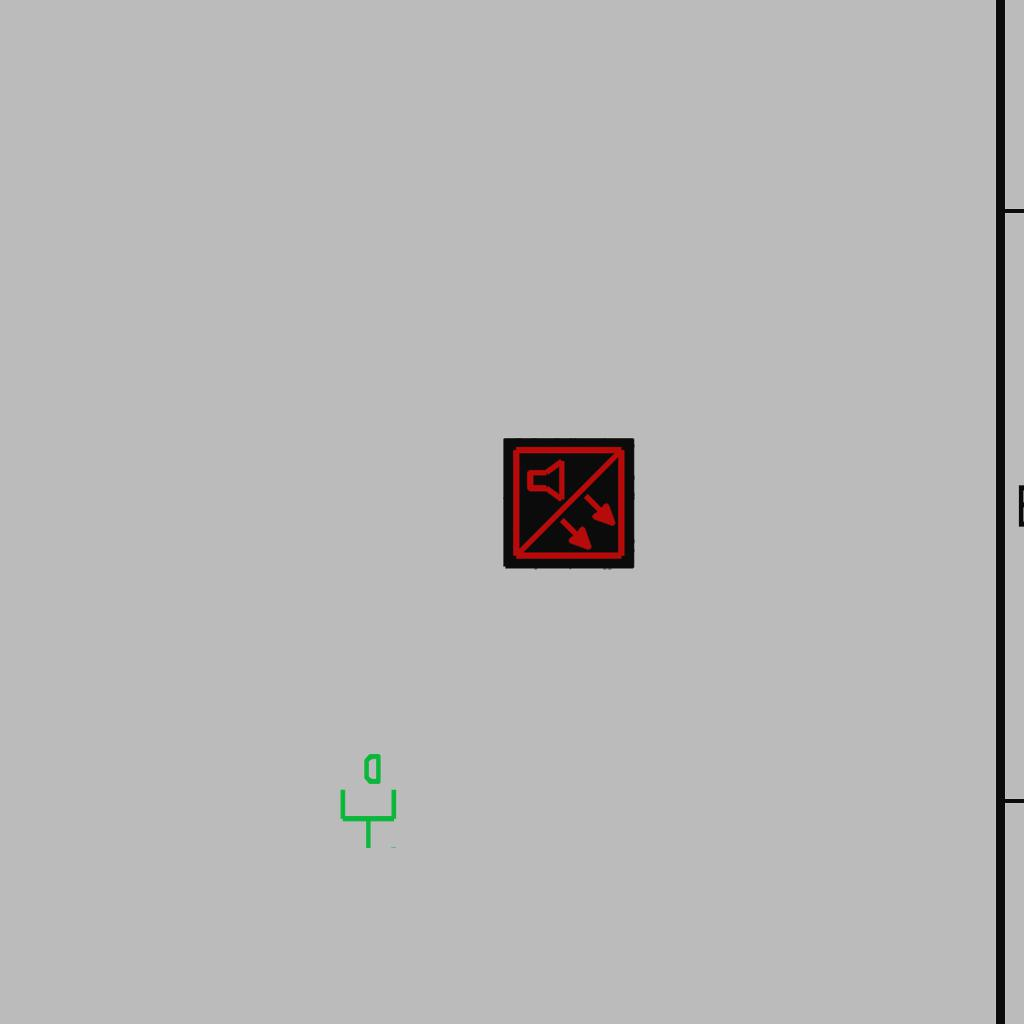Datenanschluss_einfach: (332, 751, 401, 851)
OKW_Multisensormelder_(Kombination_optischer_Rauch-Kahlenmonoxid_Waerme-Melder): (503, 438, 635, 570)
